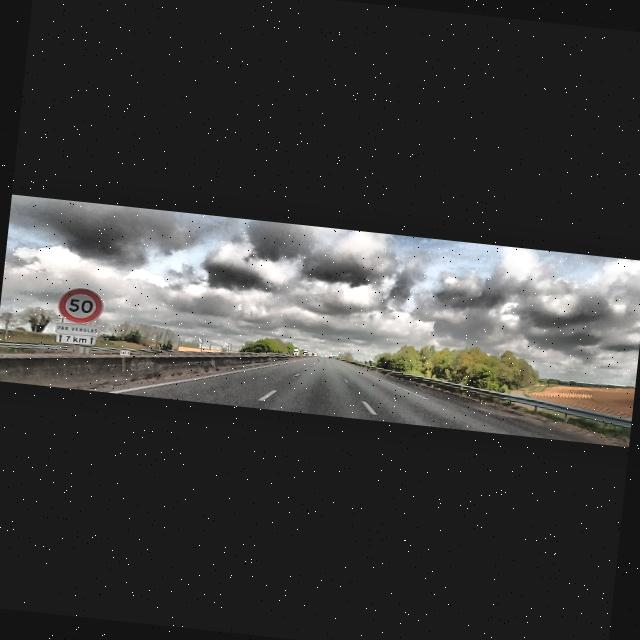speed_50: (57, 286, 104, 324)
